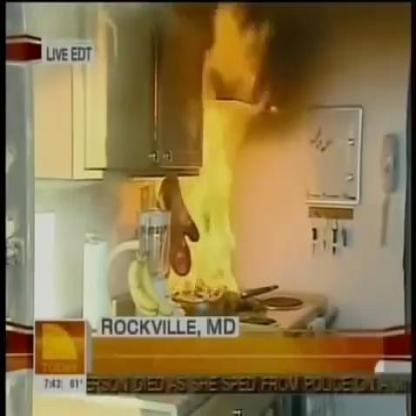fire: (163, 104, 259, 299)
